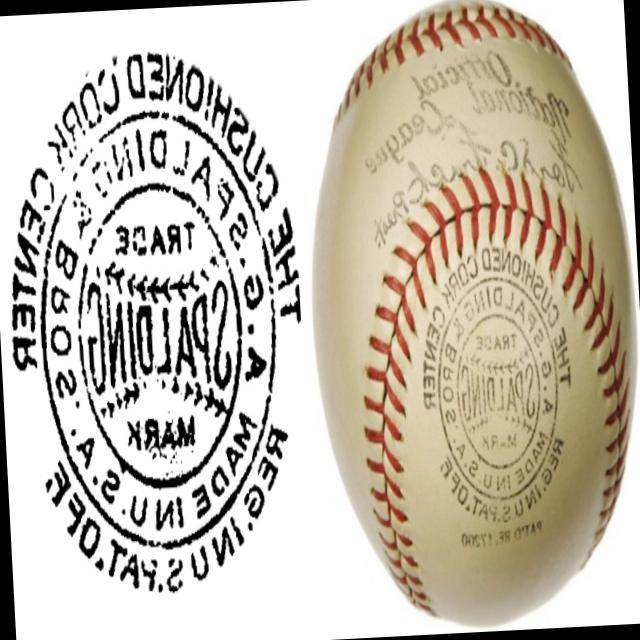Ball: (298, 0, 640, 633)
